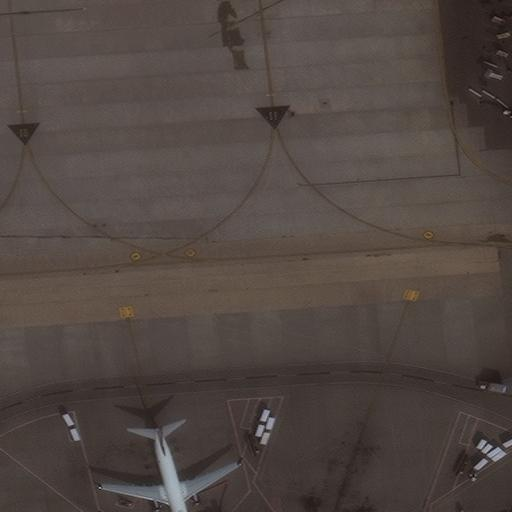Medium Civil Transport: (101, 426, 243, 512)
